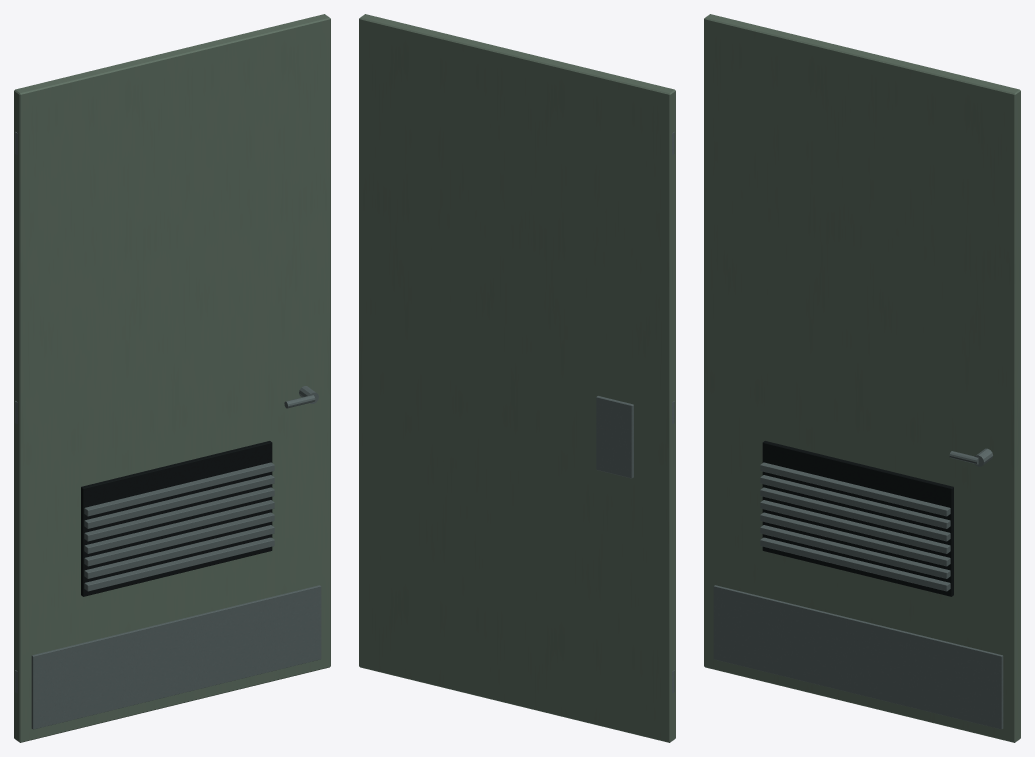
Rendered from rear_service_door.glb.
3 views of the same model, side by side, from view 1: azimuth 30°, elevation 25°; view 2: azimuth 150°, elevation 25°; view 3: azimuth 330°, elevation 25° (orthographic).
Visible parts, largest first — view 1: rear_service_door; view 2: rear_service_door; view 3: rear_service_door.
Boxes of the visible parts, <box> form: rear_service_door: <box>14,14,330,742</box>; rear_service_door: <box>359,14,675,742</box>; rear_service_door: <box>704,14,1020,742</box>.
Size of the model in its own units: 1.2 by 2.39 by 0.126.
Materials: 3 (3 with a texture image).
